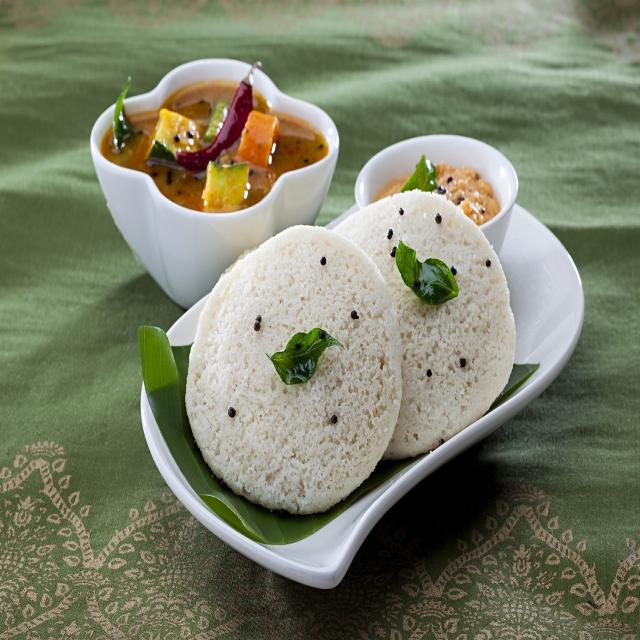Idli: (187, 188, 511, 506)
Sambhar: (103, 73, 330, 209), (374, 148, 510, 221)
